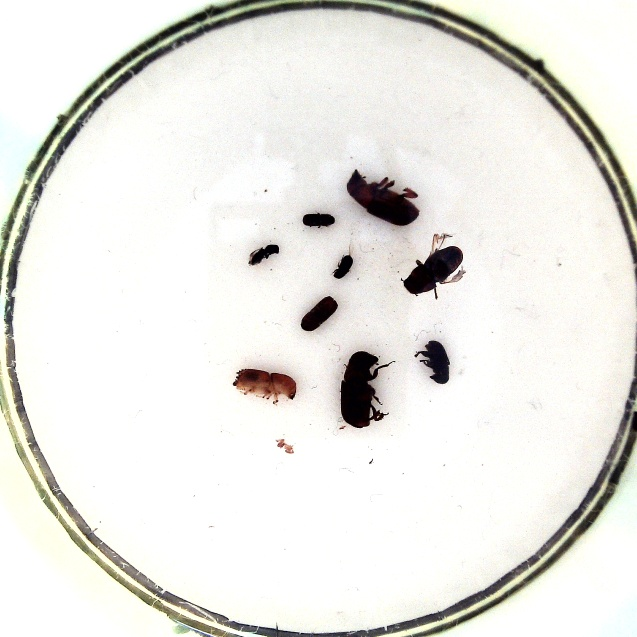armandi: (411, 335, 453, 387)
boerner: (231, 364, 299, 404)
coleoptera: (332, 237, 361, 280), (245, 240, 282, 268), (298, 210, 339, 231)
leconte: (397, 229, 468, 300), (336, 349, 396, 431), (345, 166, 424, 228)
linnaeus: (295, 294, 344, 334)
